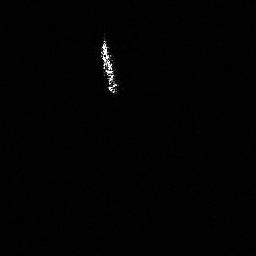ship: (97, 34, 121, 95)
